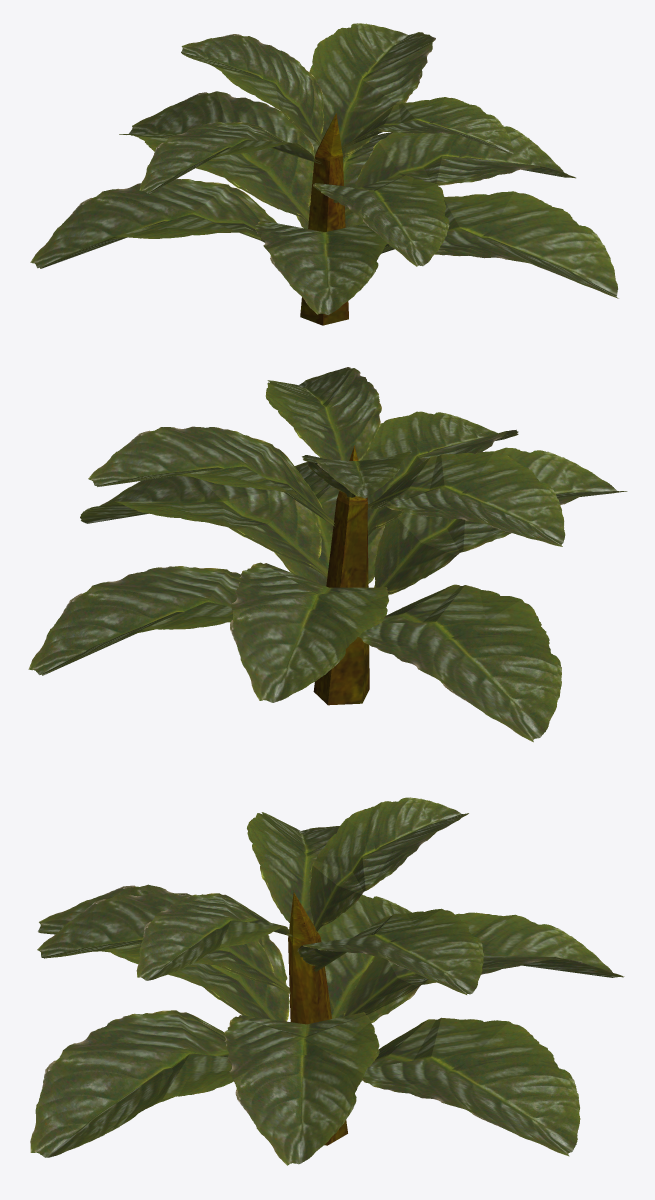
File: bigleafplant_01_small_mid.obj
The picture shows the model from 3 angles, top to bottom: view 1: azimuth 30°, elevation 25°; view 2: azimuth 150°, elevation 25°; view 3: azimuth 270°, elevation 25°; orthographic projection. The views are drawn at different scales.
Parts seen in each view (by area): view 1: bigleafsa224, bigleafsa64; view 2: bigleafsa224, bigleafsa64; view 3: bigleafsa224, bigleafsa64.
Part boxes in pixels (left/top/right/bottom): bigleafsa224: left=30, top=25, right=618, bottom=314; bigleafsa64: left=32, top=23, right=610, bottom=325; bigleafsa224: left=28, top=367, right=627, bottom=742; bigleafsa64: left=30, top=367, right=626, bottom=717; bigleafsa224: left=30, top=799, right=624, bottom=1165; bigleafsa64: left=33, top=797, right=623, bottom=1164.
Size of what is drawn, in the model's own units: 1.77 by 0.858 by 1.66.
Materials: 1 (1 with a texture image).
